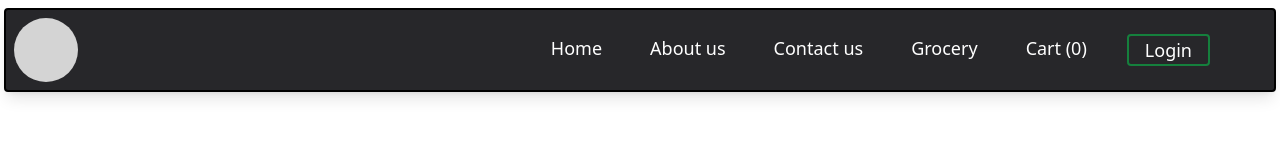
should change login to logout onclick
This screenshot has width=1280, height=160.
Click the button "Login" at x=1168, y=50, box [1127, 34, 1210, 66]
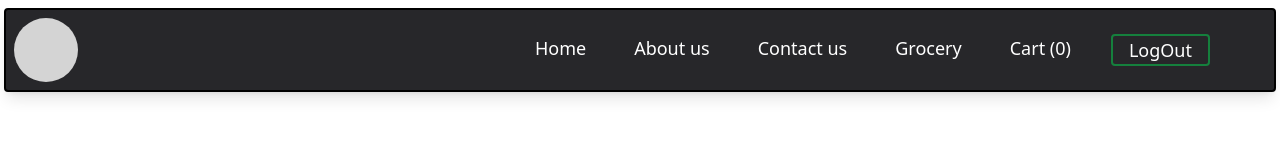
Expected: the button "LogOut" is shown, [1111, 34, 1210, 66]
